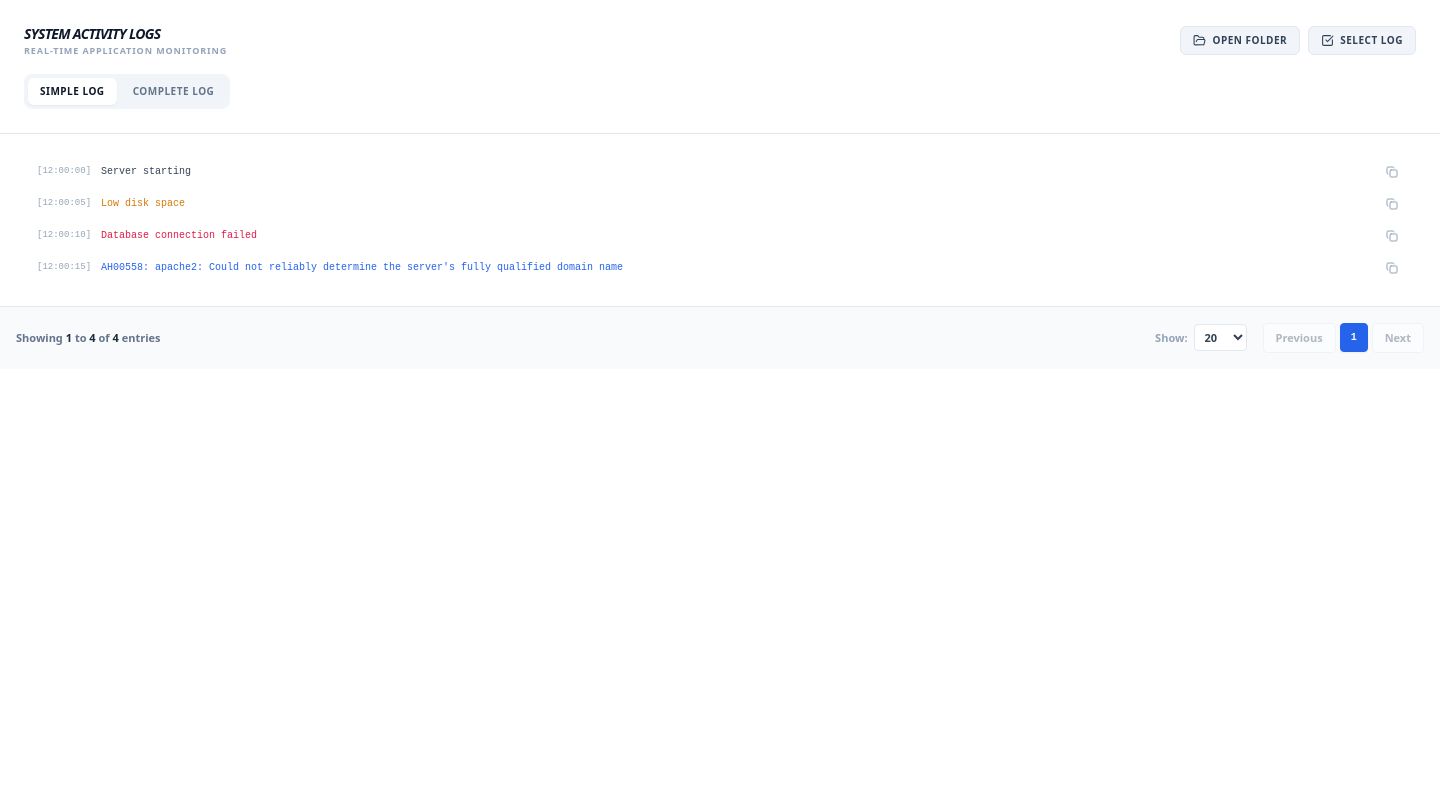
Test case: LogViewer Component › renders simple log mode by default and allows toggling to complete log mode
Expected: the text "Server starting" is shown, [101,166,191,177]
Expected: the text "initServer()" is not shown
Note: Toggle to Complete Log
Click the button "Complete Log".
click(173, 91)  # box [121,78,226,104]
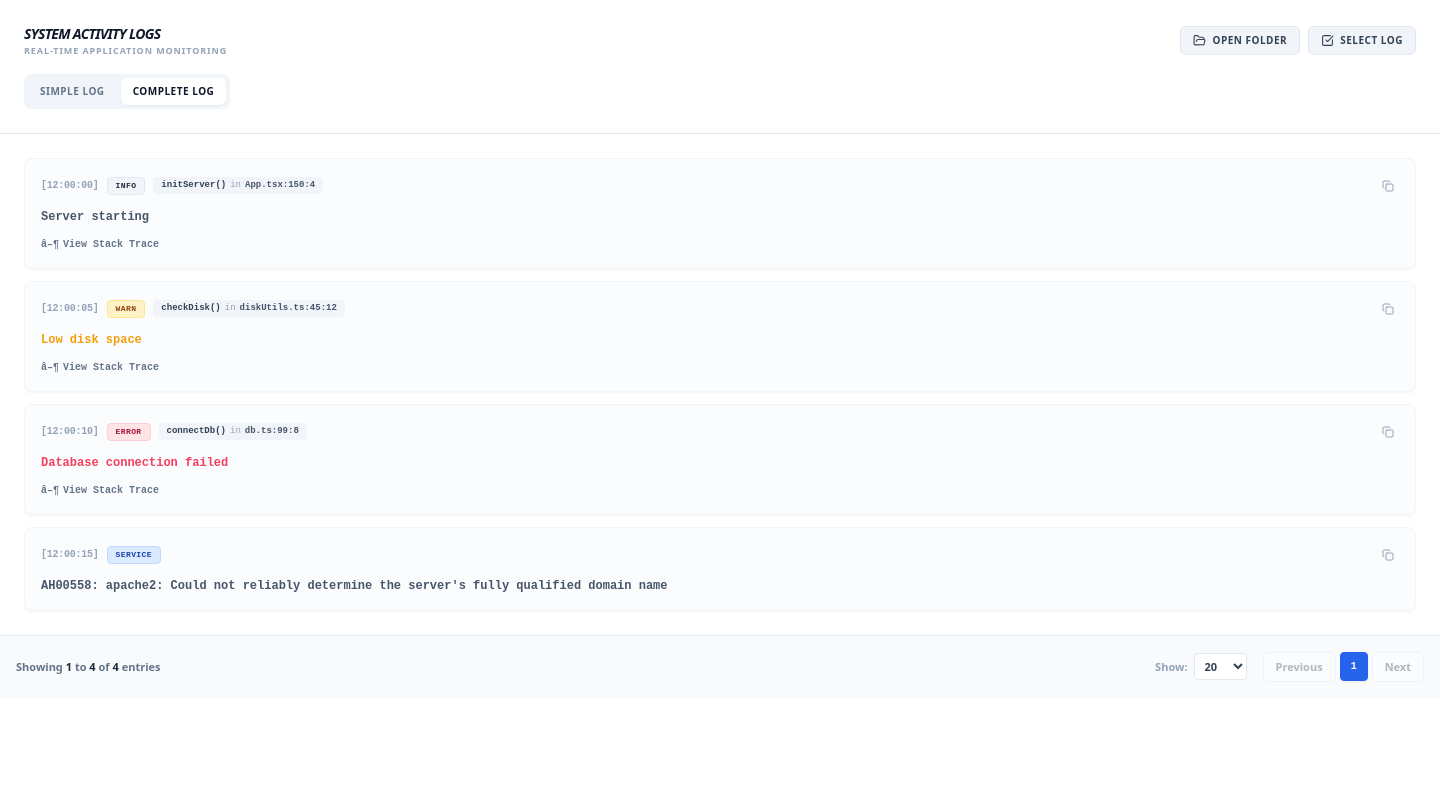
Expected: the text "INFO" is shown, [106,176,145,194]
Expected: the text "WARN" is shown, [106,300,145,318]
Expected: the text "ERROR" is shown, [106,422,150,440]
Note: Switch back to Simple Log
Click the button "Simple Log".
click(72, 91)  # box [28,78,117,104]
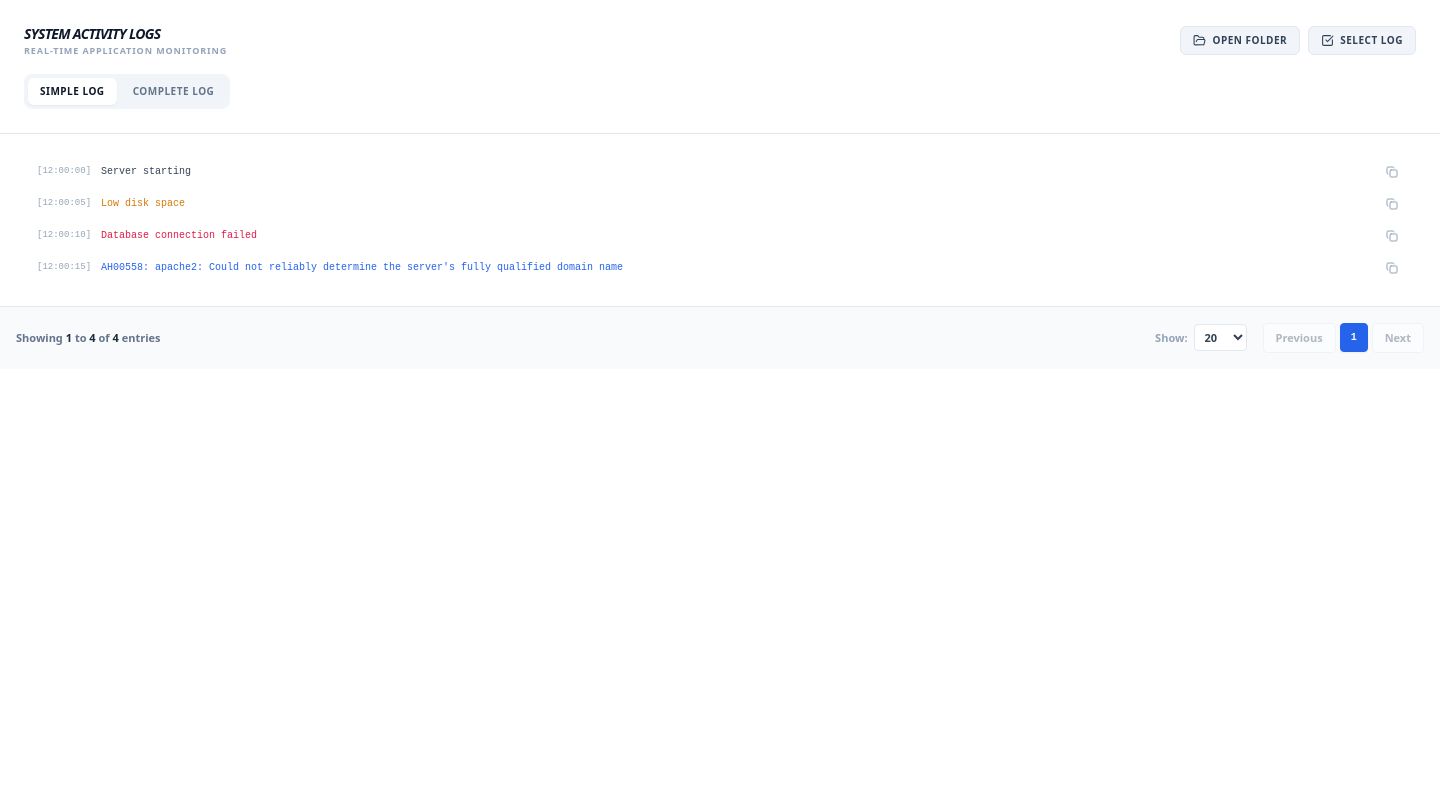
Expected: the text "initServer()" is gone
